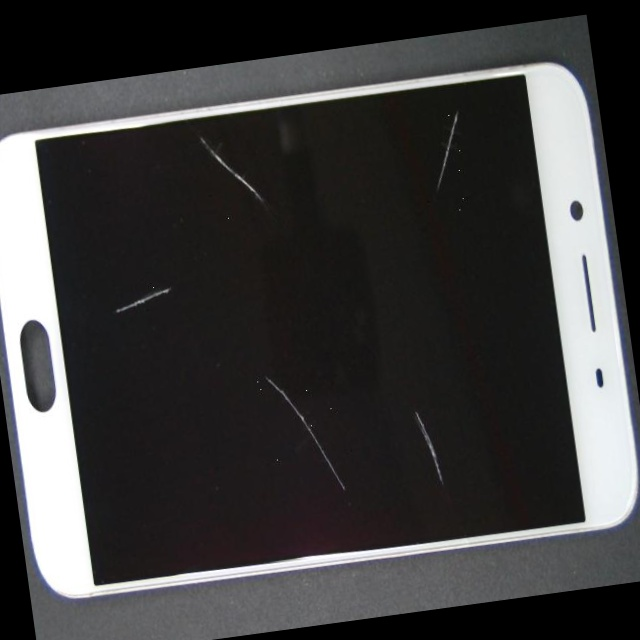scratch: (213, 225, 640, 621), (153, 266, 518, 640), (222, 18, 606, 204), (44, 54, 319, 227), (36, 204, 186, 475)
